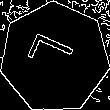L_SE: (26, 33, 83, 82)
